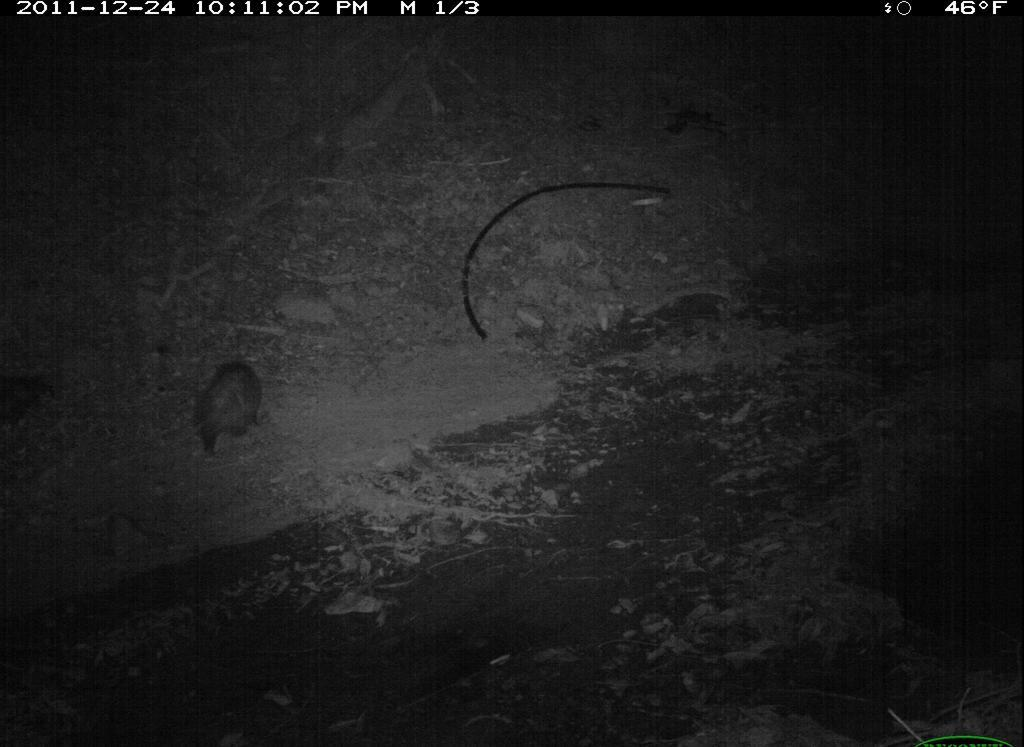opossum: (178, 346, 276, 463)
